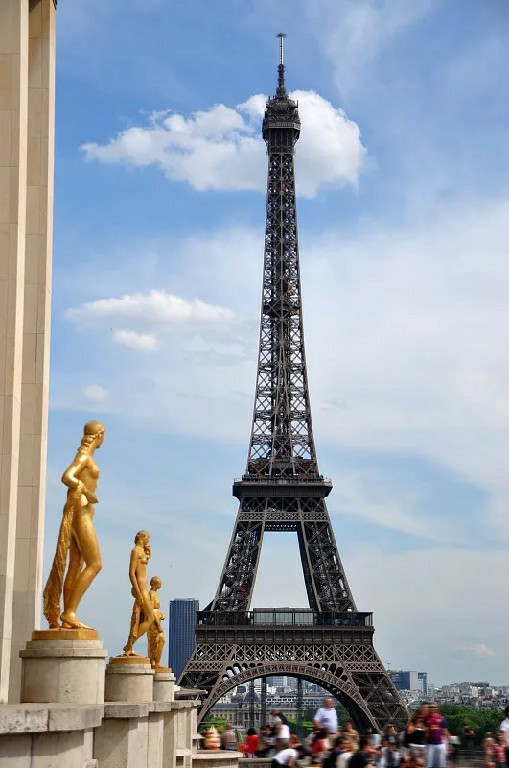Eiffel: (172, 31, 412, 741)
